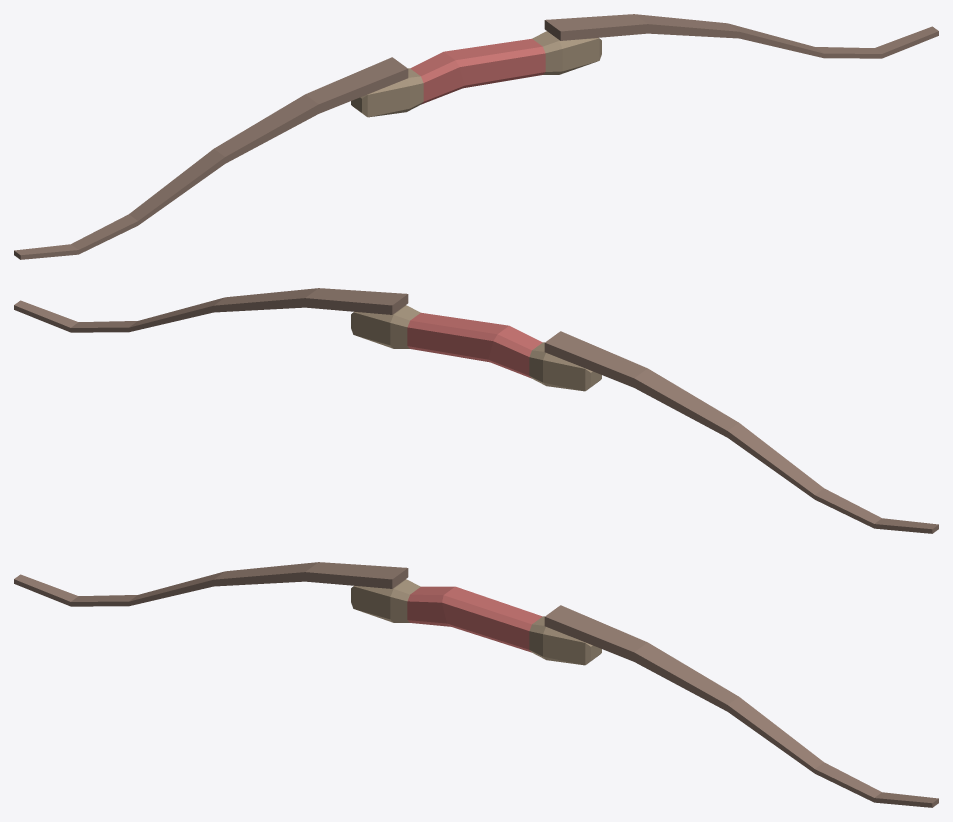
File: bow.glb
3 views of the same model, one above another, from view 1: azimuth 30°, elevation 25°; view 2: azimuth 150°, elevation 25°; view 3: azimuth 330°, elevation 25° (orthographic).
Parts seen in each view (by area): view 1: bow; view 2: bow; view 3: bow.
Part boxes in pixels (x1,y1,x2,y2): bow: (14,14,938,259); bow: (14,288,938,533); bow: (14,562,938,807).
Bounding box in the file's own units: 2.39 × 0.2725 × 0.0877.
1 material, 1 textured.
